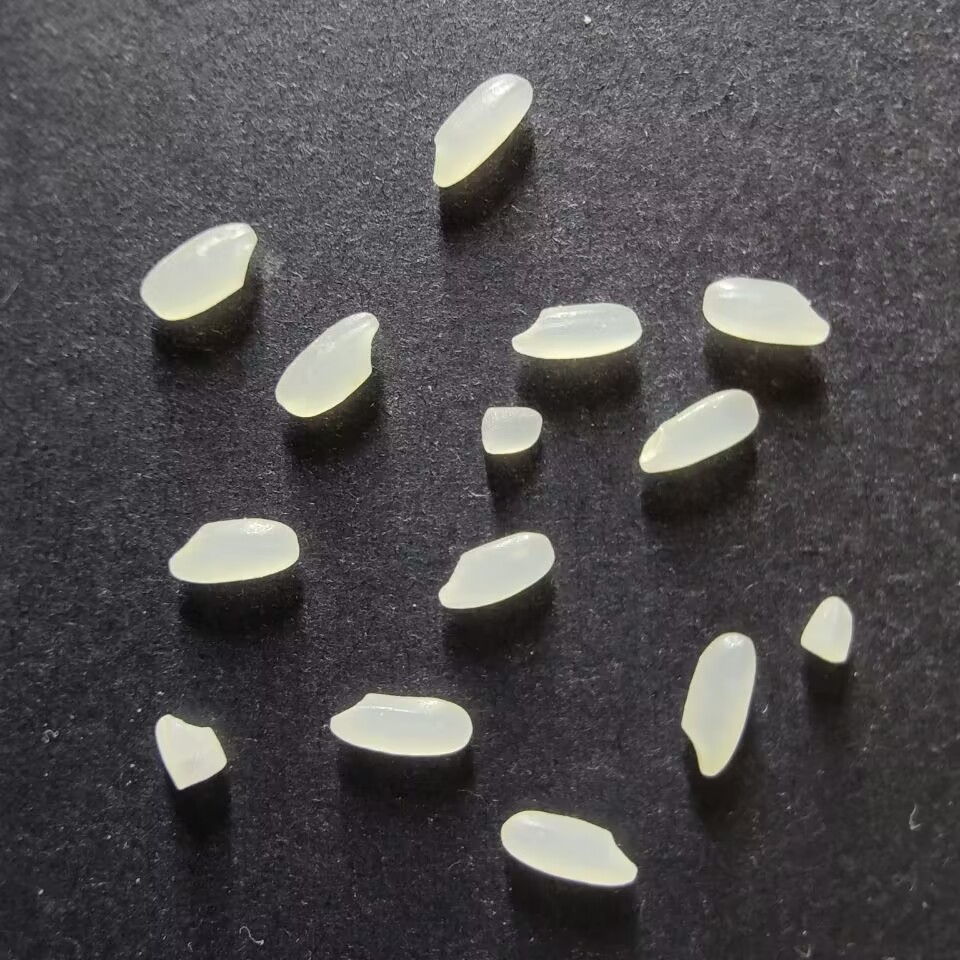broken: (154, 713, 227, 791), (799, 596, 852, 664), (480, 404, 542, 455)
rice: (431, 72, 533, 188), (140, 222, 256, 320), (274, 310, 379, 417), (680, 631, 756, 778), (499, 809, 637, 886), (637, 388, 759, 473), (328, 692, 472, 757), (437, 531, 554, 609), (701, 276, 830, 346), (168, 517, 300, 584), (510, 302, 642, 360)
